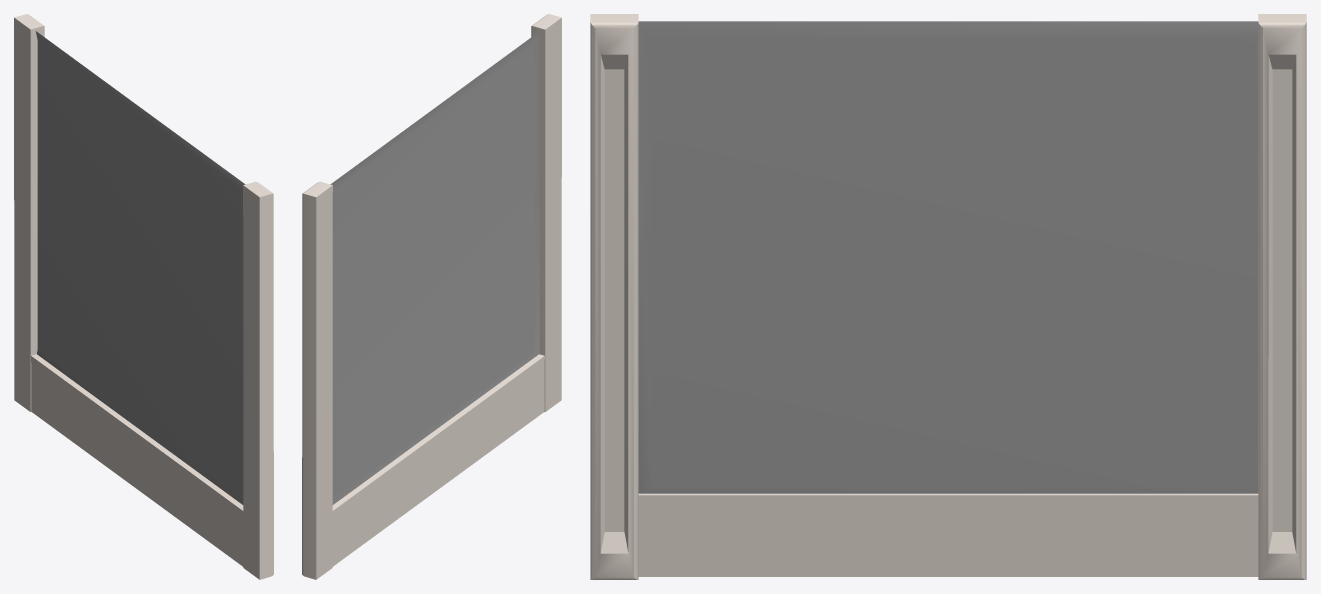
The model's file is Level_Door.fbx.
The picture shows the model from 3 angles, left to right: view 1: azimuth 30°, elevation 25°; view 2: azimuth 150°, elevation 25°; view 3: azimuth 270°, elevation 25°; orthographic projection. The views are drawn at different scales.
Visible parts, largest first — view 1: Window_glass, Bottom, Piller, Piller1; view 2: Window_glass, Bottom, Piller1, Piller; view 3: Window_glass, Bottom, Piller, Piller1.
Boxes of the visible parts, x1,y1,x2,y2 form: Window_glass: [36, 31, 245, 504]; Bottom: [31, 354, 243, 566]; Piller: [243, 181, 273, 579]; Piller1: [14, 14, 44, 411]; Window_glass: [330, 31, 539, 504]; Bottom: [332, 354, 544, 566]; Piller1: [302, 181, 332, 579]; Piller: [531, 14, 561, 411]; Window_glass: [638, 21, 1258, 493]; Bottom: [638, 493, 1258, 576]; Piller: [590, 14, 638, 579]; Piller1: [1258, 14, 1306, 579].
Size of the model in its own units: 1 by 21.54 by 25.02.
Materials: 3 (1 with a texture image).
